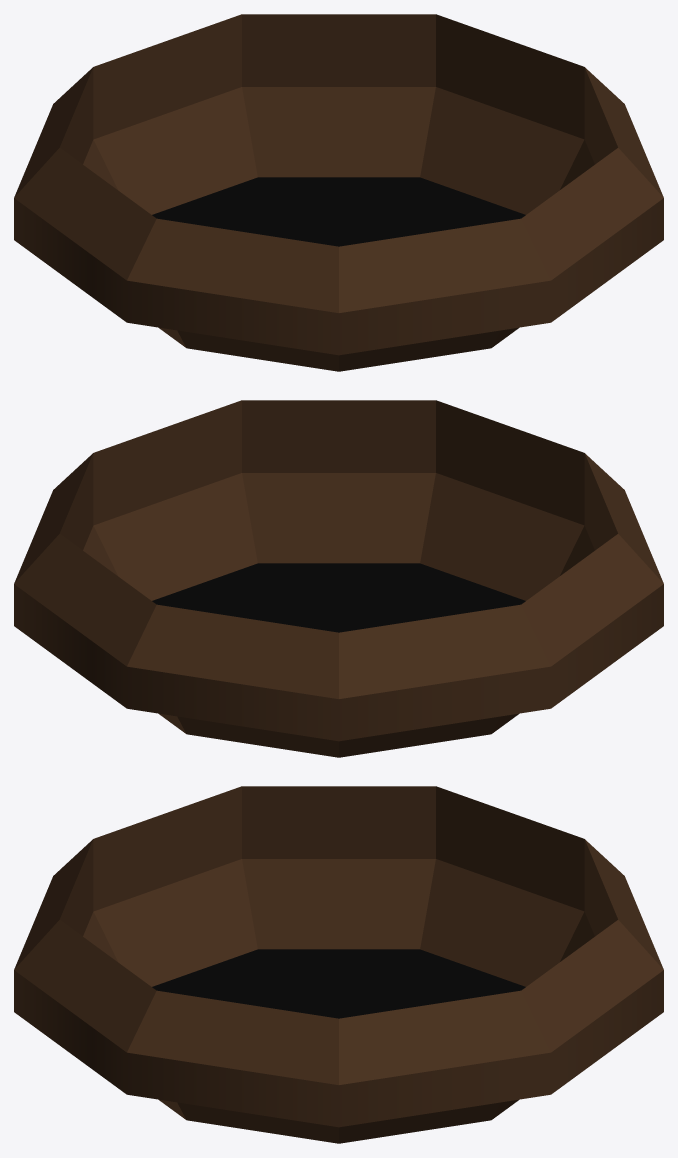
File: Crater_Endless.FBX
3 renders of one model, top to bottom at view 1: azimuth 30°, elevation 25°; view 2: azimuth 150°, elevation 25°; view 3: azimuth 270°, elevation 25°, orthographic.
Parts seen in each view (by area): view 1: Endless_Crater; view 2: Endless_Crater; view 3: Endless_Crater.
Part boxes in pixels (x1=…): Endless_Crater: x1=14, y1=14, x2=663, y2=371; Endless_Crater: x1=14, y1=400, x2=663, y2=757; Endless_Crater: x1=14, y1=786, x2=663, y2=1143.
Bounding box in the file's own units: 32.23 × 8.04 × 32.73.
